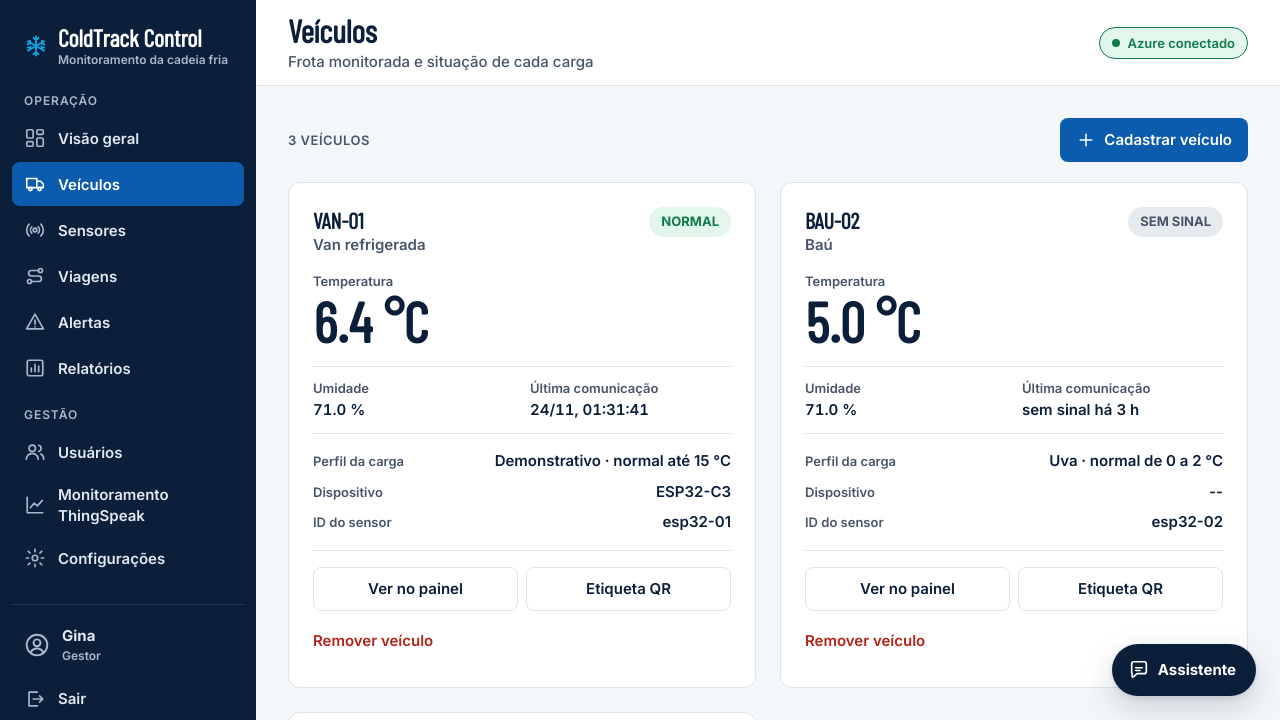
Veiculos › erro no cadastro: mostra a mensagem da API
expect the heading "VAN-01" is shown: met, box x1=313 y1=207 x2=364 y2=233
Click the button "Cadastrar veículo" at (1154, 140), box x1=1060 y1=118 x2=1248 y2=162
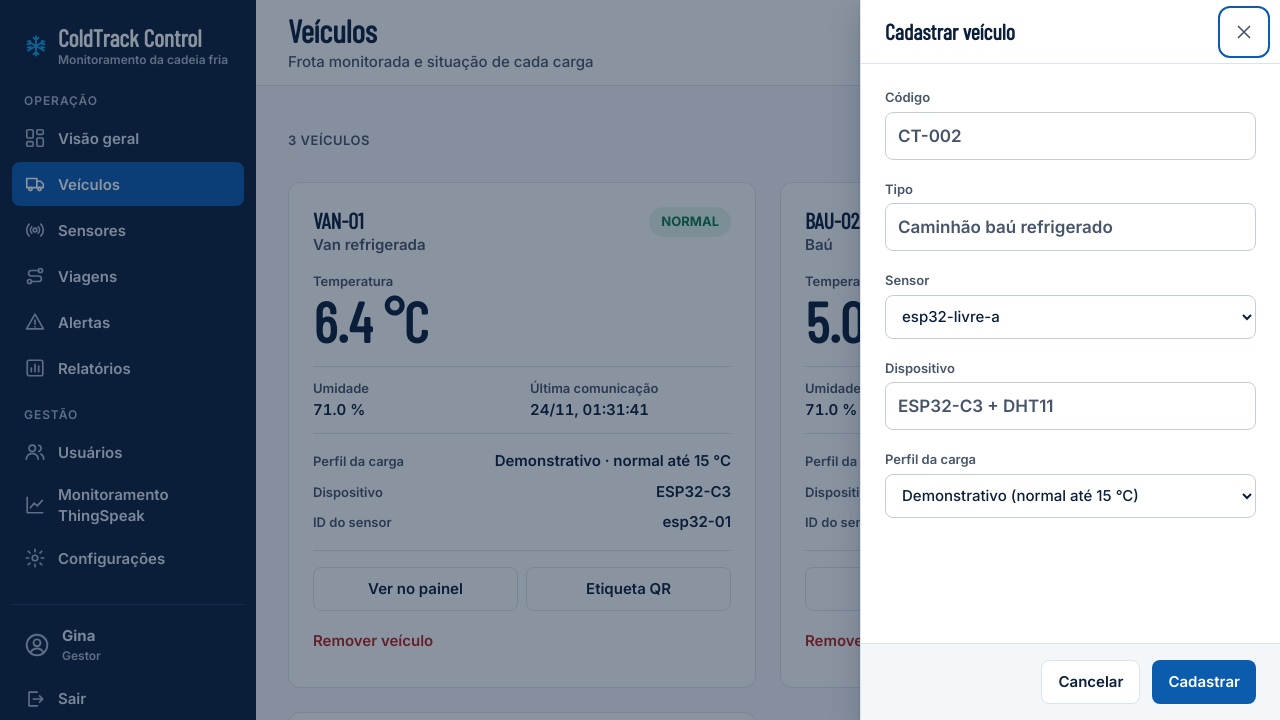
Submit the form with id "formVeiculo", box x1=861 y1=64 x2=1279 y2=719
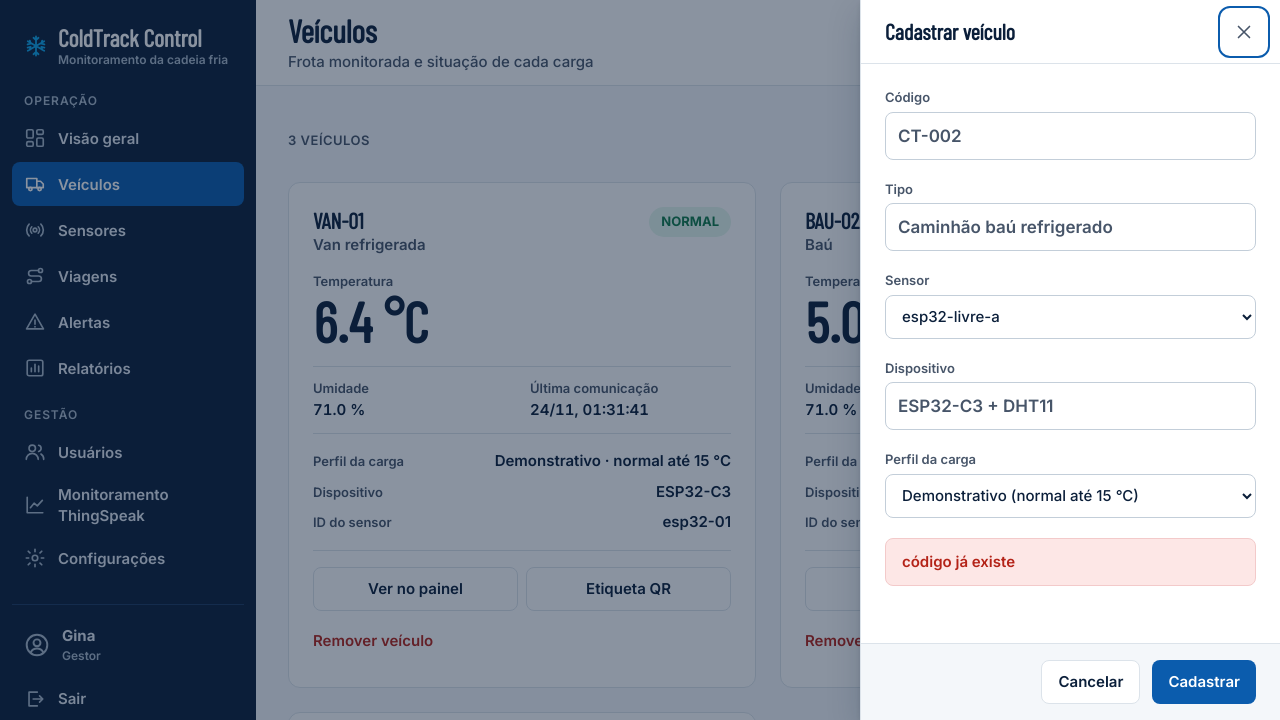
expect the message reads "código já existe": met, box x1=902 y1=552 x2=1015 y2=570
